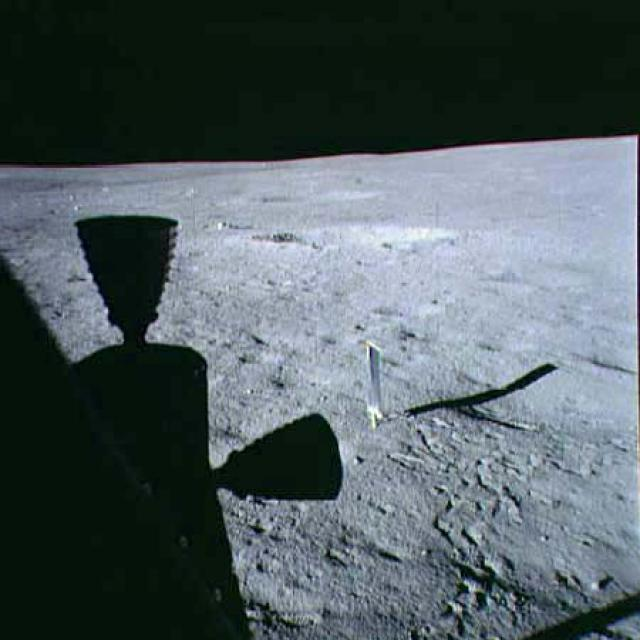crater: (215, 215, 472, 271), (578, 332, 640, 386), (462, 325, 538, 361)
